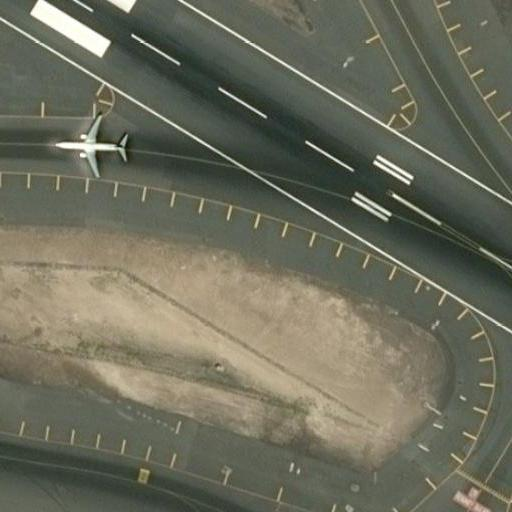Aircraft: (48, 106, 130, 181)
